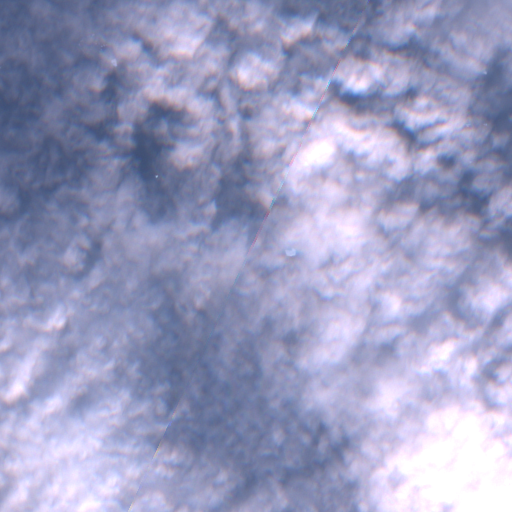Iceberg: (286, 248, 295, 255), (112, 59, 116, 66), (156, 175, 157, 177)
